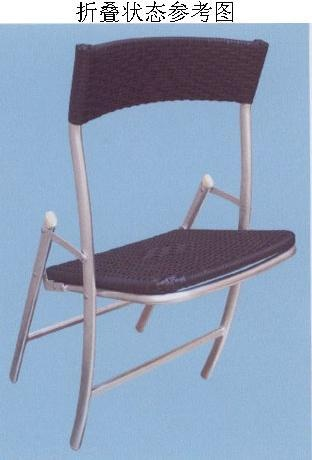obstacle: (10, 37, 294, 448)
